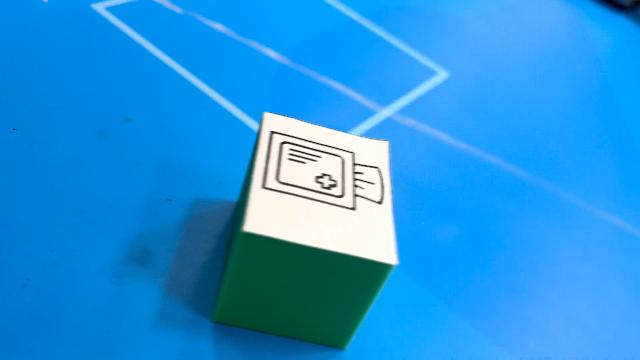napkin: (214, 113, 400, 351)
